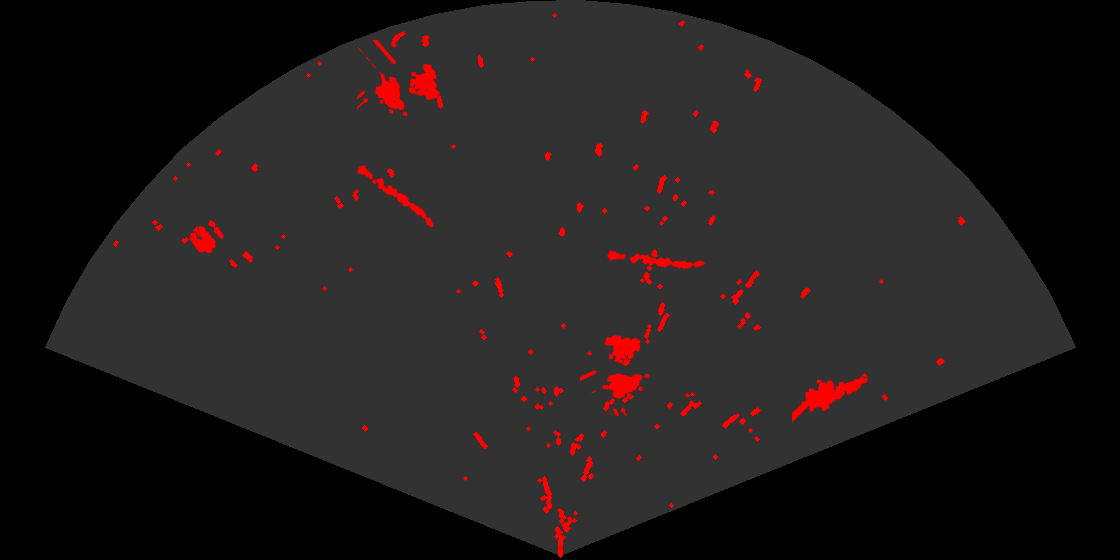ball: (188, 219, 225, 255)
cage: (357, 40, 440, 118), (580, 333, 651, 416)
chain: (355, 163, 435, 229), (605, 249, 707, 271)
frogman: (792, 375, 869, 424)
